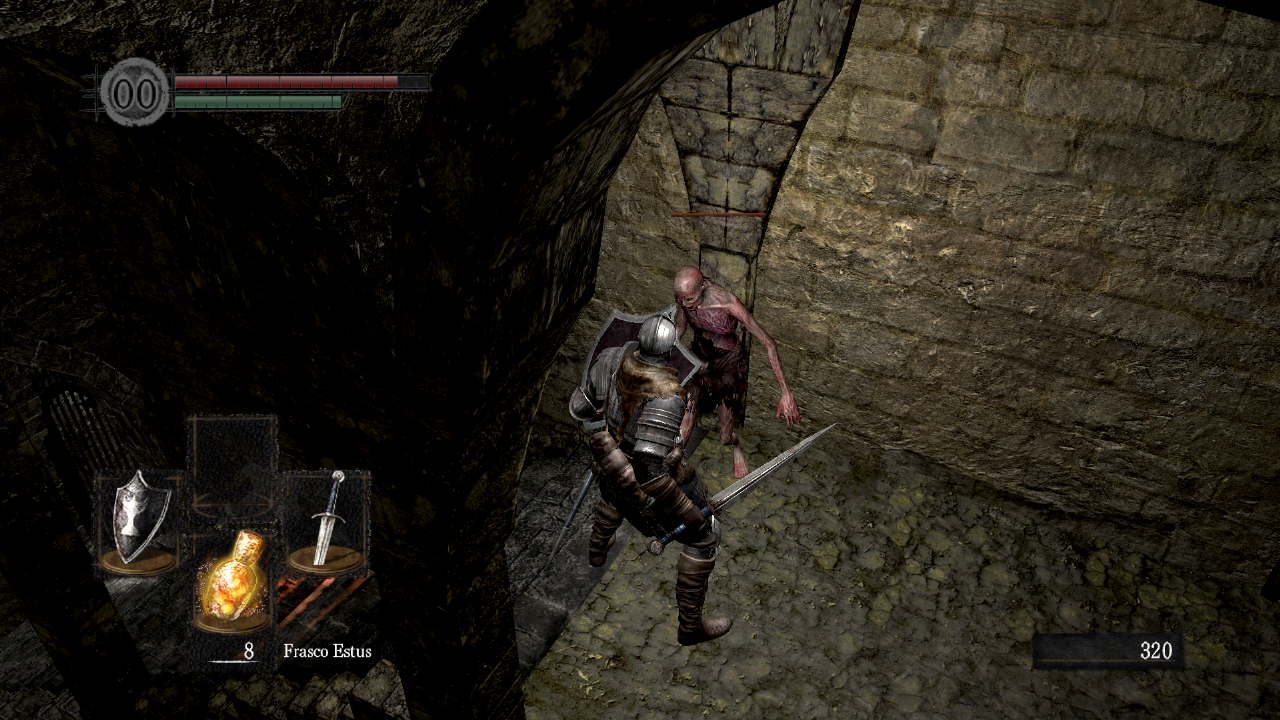hollow: (672, 264, 801, 479)
player: (567, 303, 838, 645)
